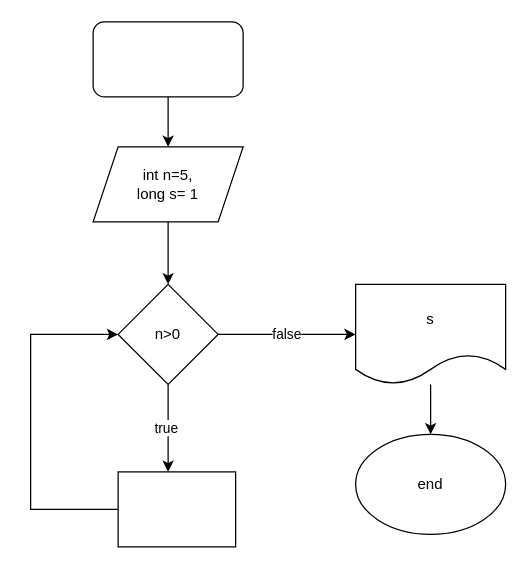
Image size: 528x569. Some labels were removed from this diagram. The shapes that lost their labels are listed below. From the top down, each one's centre as x and y in pixels, then its label:
At pixel 167 59: "start".
At pixel 176 509: "s*= n; n--".
